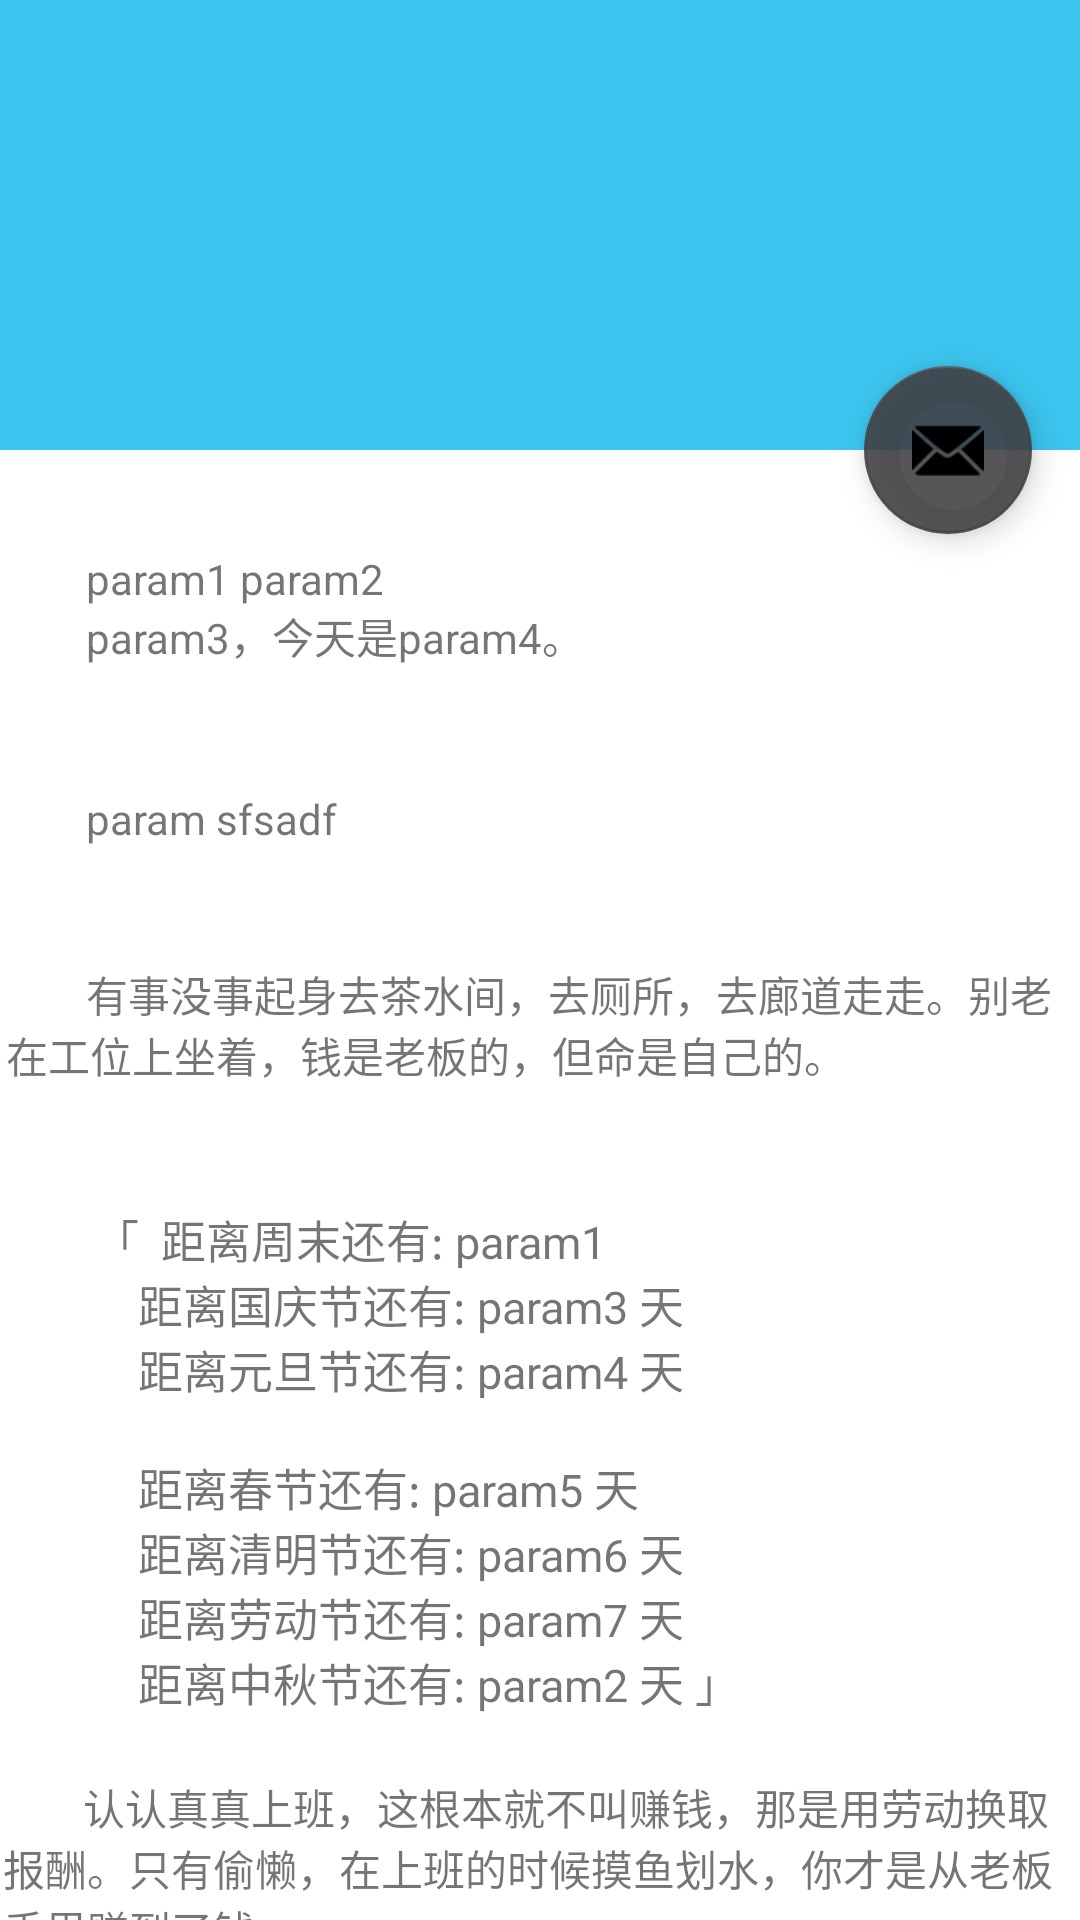

Icons on this 1080px×1920px Android screen, each with the point to tap as (x=x, y=y):
email: (x=948, y=450)
